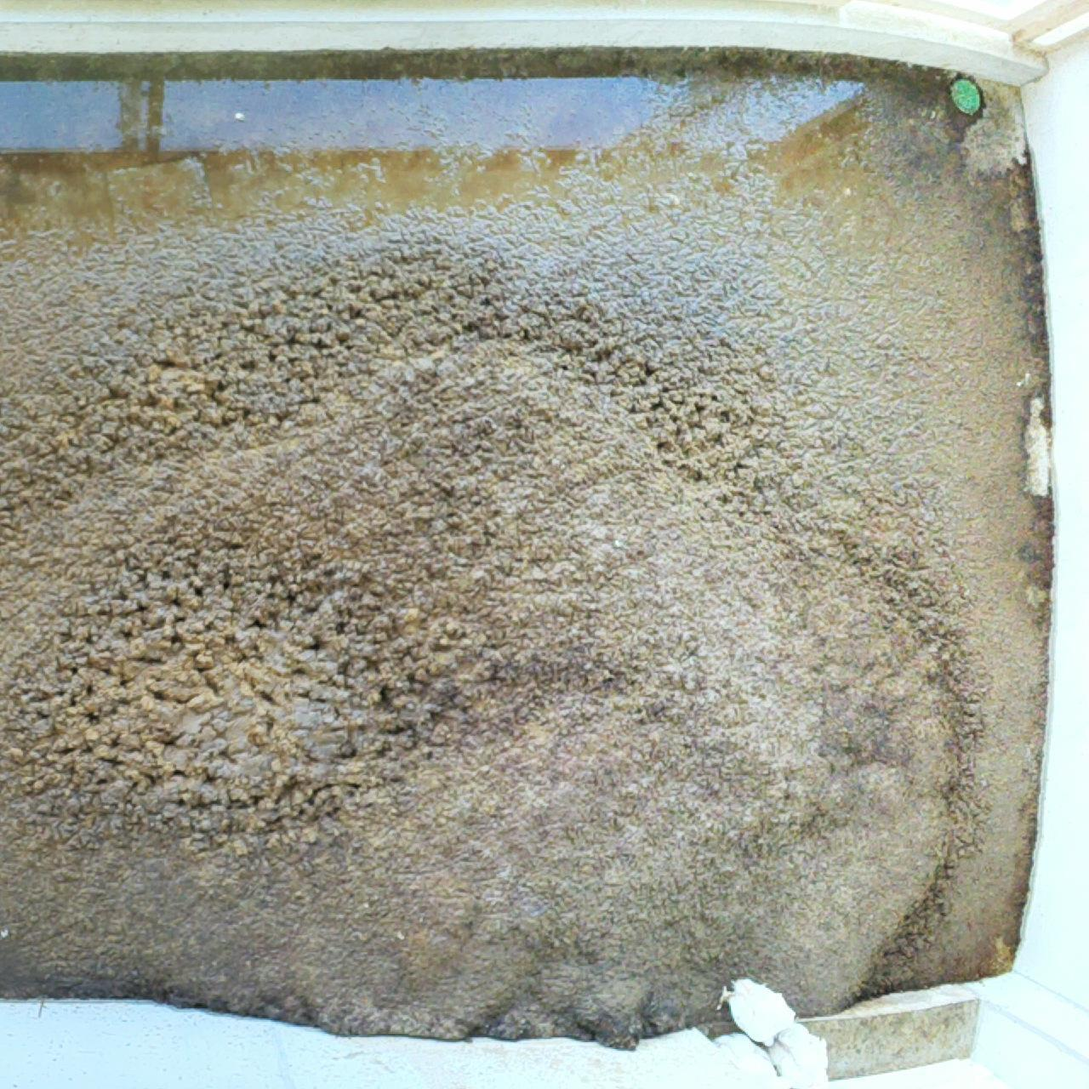chicken: (718, 972, 799, 1047), (764, 1018, 834, 1087), (713, 1034, 777, 1086)
